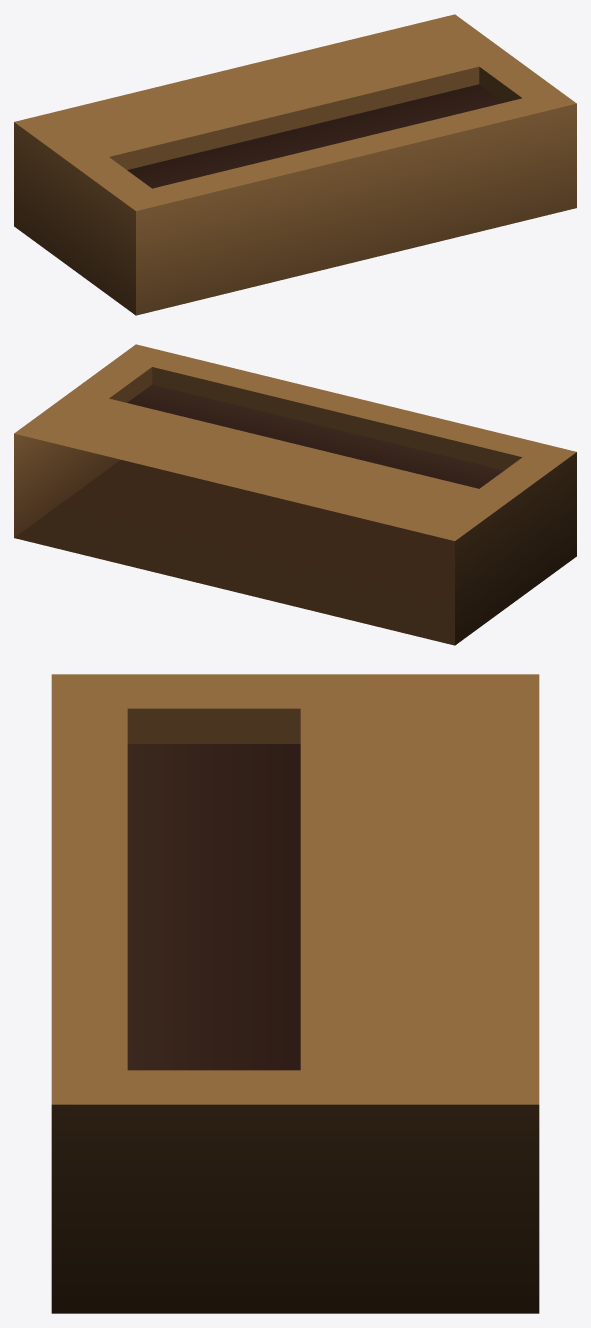
The model's file is Window_FlowerPot_01B.fbx.
3 views of the same model, one above another, from view 1: azimuth 30°, elevation 25°; view 2: azimuth 150°, elevation 25°; view 3: azimuth 270°, elevation 25° (orthographic). The views are drawn at different scales.
Visible parts, largest first — view 1: Window_FlowerPot_01B; view 2: Window_FlowerPot_01B; view 3: Window_FlowerPot_01B.
Boxes of the visible parts, left/top/right/bottom form: Window_FlowerPot_01B: left=14, top=14, right=576, bottom=315; Window_FlowerPot_01B: left=14, top=344, right=576, bottom=645; Window_FlowerPot_01B: left=51, top=674, right=539, bottom=1313.
Bounding box in the file's own units: 139 × 31.55 × 66.78.
1 material, 1 textured.
